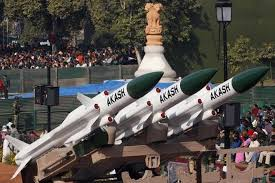ten_lua: (8, 74, 166, 166), (147, 63, 219, 123), (208, 57, 271, 111)
